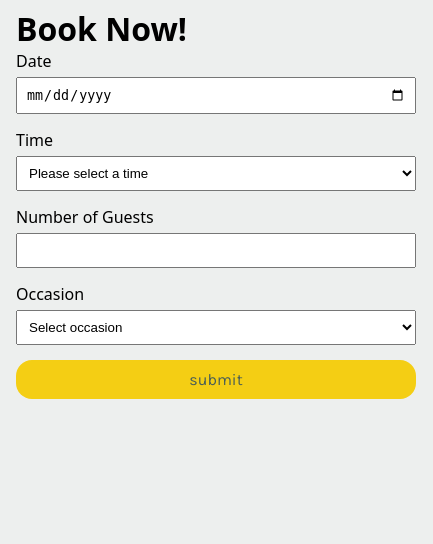
Test: shows validation errors when invalid data is entered
# Enter invalid number of guests
Step 1. Type "0" into the number field labelled "Number of Guests" → [216, 251], box [16,233,416,268]
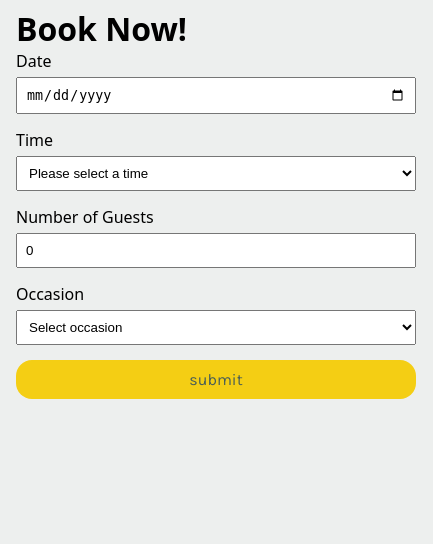
# Try to submit the form
Step 2. Click the button "submit" → [216, 380], box [16,360,416,399]
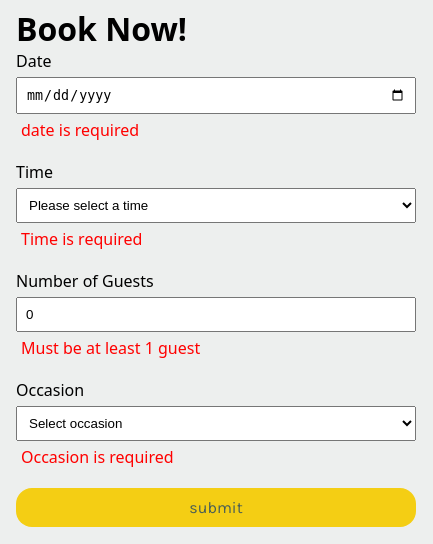
Result: the text "Must be at least 1 guest" is shown at [21,337,200,359]
